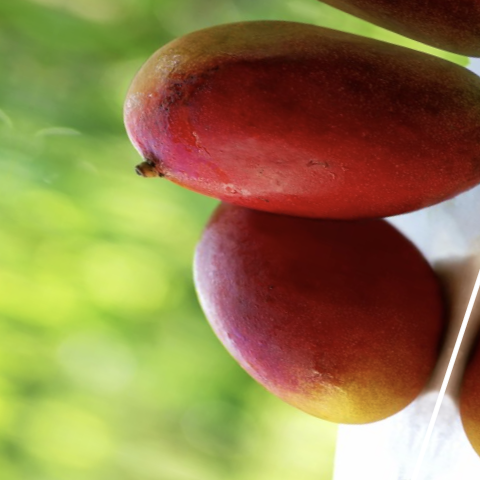mango: (92, 0, 480, 309), (148, 137, 480, 471)
